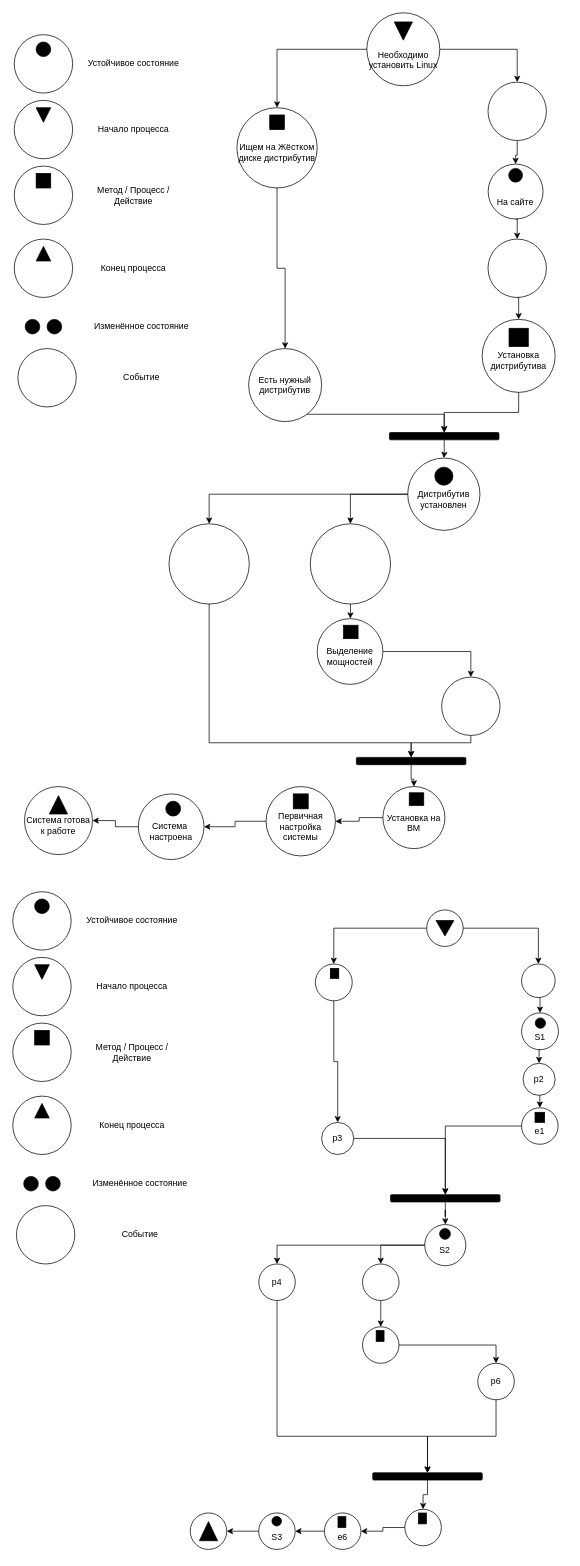
Image size: 580x1566. Some labels were removed from this diagram. Each missing label, with the centre of its shape:
e2: [333,982]
e4: [380,1344]
e5: [422,1527]
p1: [538,980]
p5: [380,1281]
Выбираем дистрибутив: [516,267]
Мощность настроена: [470,705]
мощностя ВМ выделены но образ не поставлен: [208,563]
мощностя ВМ не выделены но образ не поставлен: [350,563]
Перешли по ссылке на сайт: [516,111]
